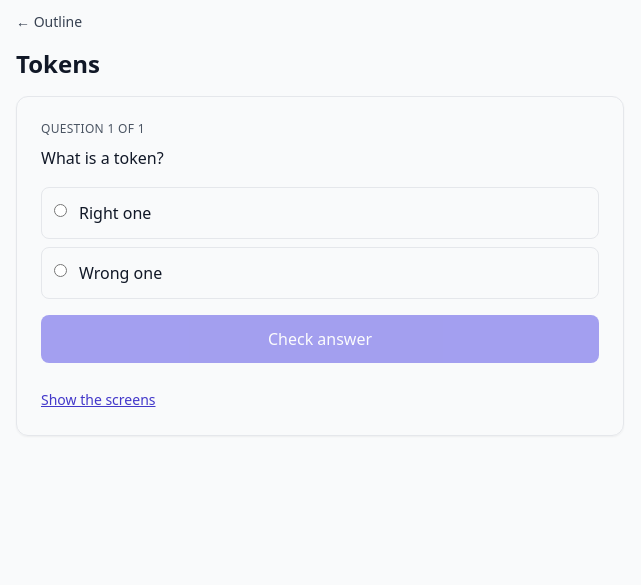
Test case: LessonPage › a wrong answer shows the reason, re-teaches the screen, then asks again
The image size is (641, 585).
Click the radio button labelled "Wrong one" at [60, 270], box [54,264,67,277]
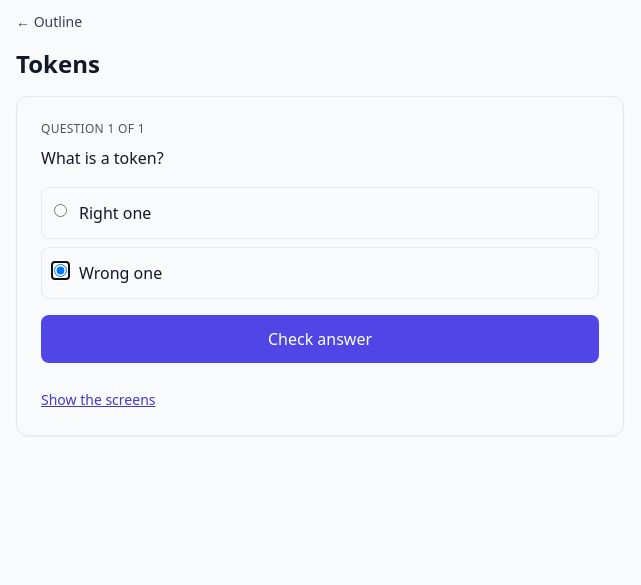
Click the button "Check answer" at [320, 339], box [41,315,599,363]
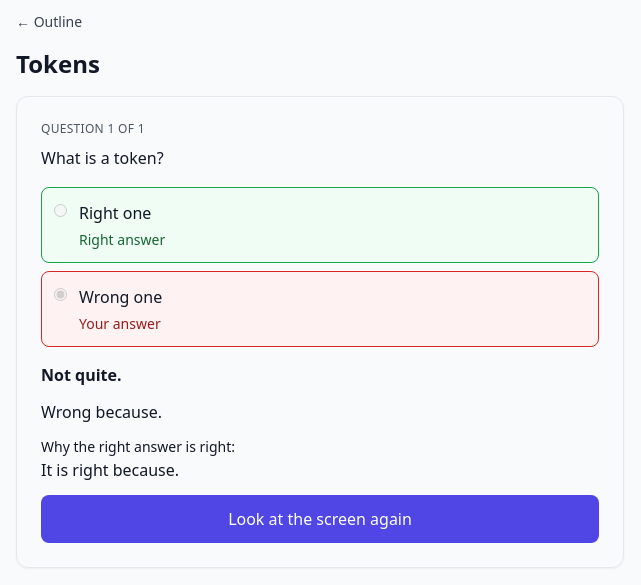
Expected: the text "Not quite." is shown, [41,364,122,386]
Expected: the text "Wrong because." is shown, [41,401,162,423]
Click the button "Look at the screen again" at [320, 519], box [41,495,599,543]
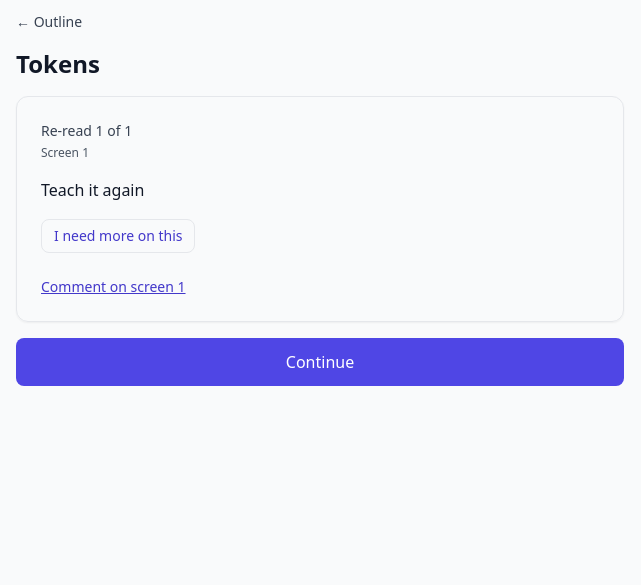
Expected: the heading "Re-read 1 of 1" is shown, [41,121,132,140]
Expected: the text "Teach it again" is shown, [41,179,144,201]
Click the button "Continue" at [320, 362], box [16,338,624,386]
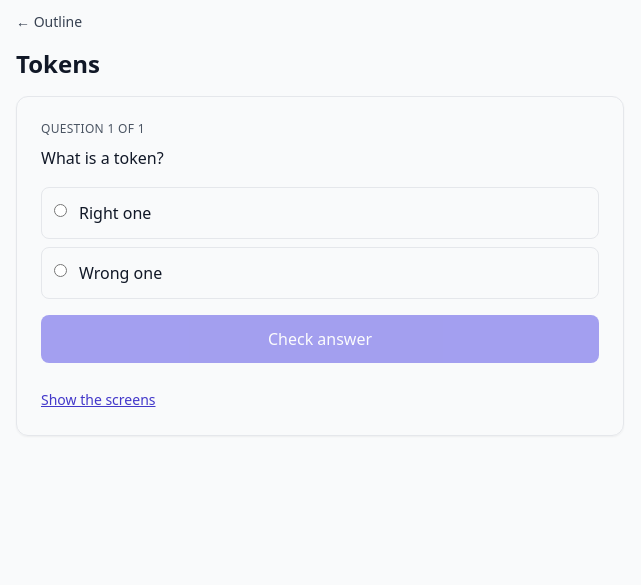
Expected: the text "What is a token?" is shown, [41,147,164,169]
